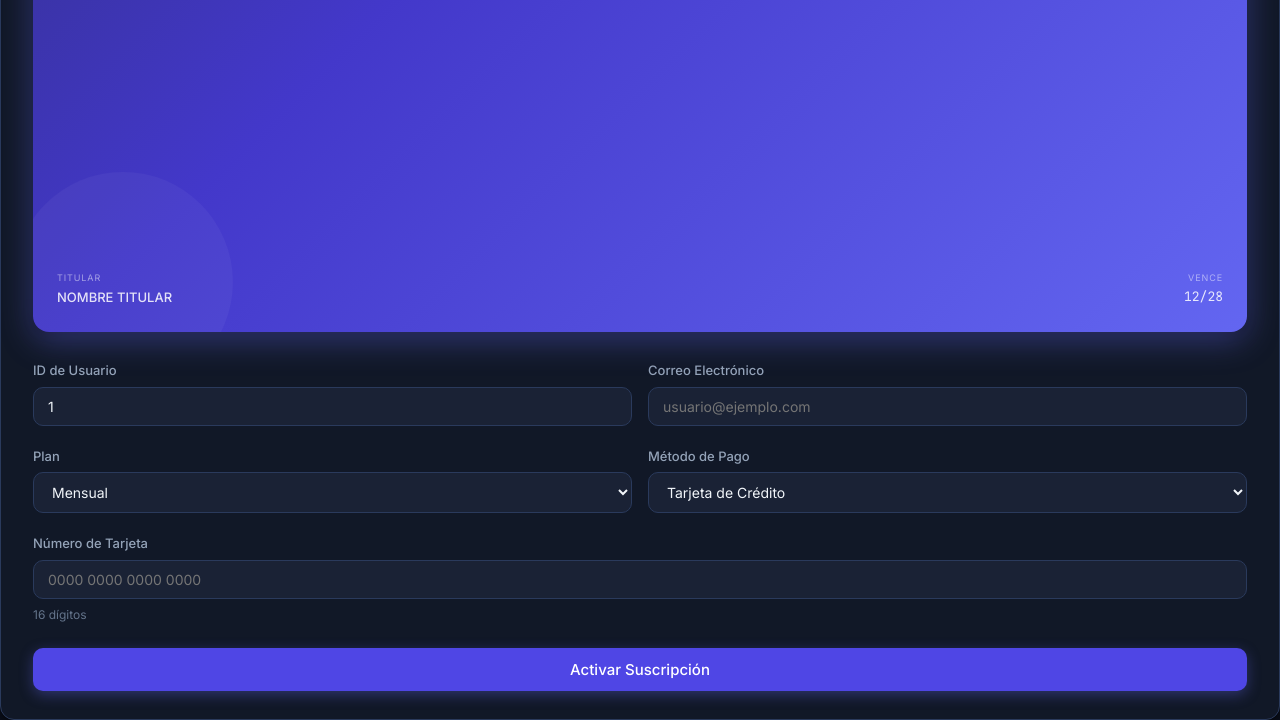
Test case: SubscriptionForm › shows validation error for empty email on blur
The image size is (1280, 720).
(page scrolled)
Click the field labelled "Correo Electrónico" at [948, 406], box [648, 387, 1247, 426]
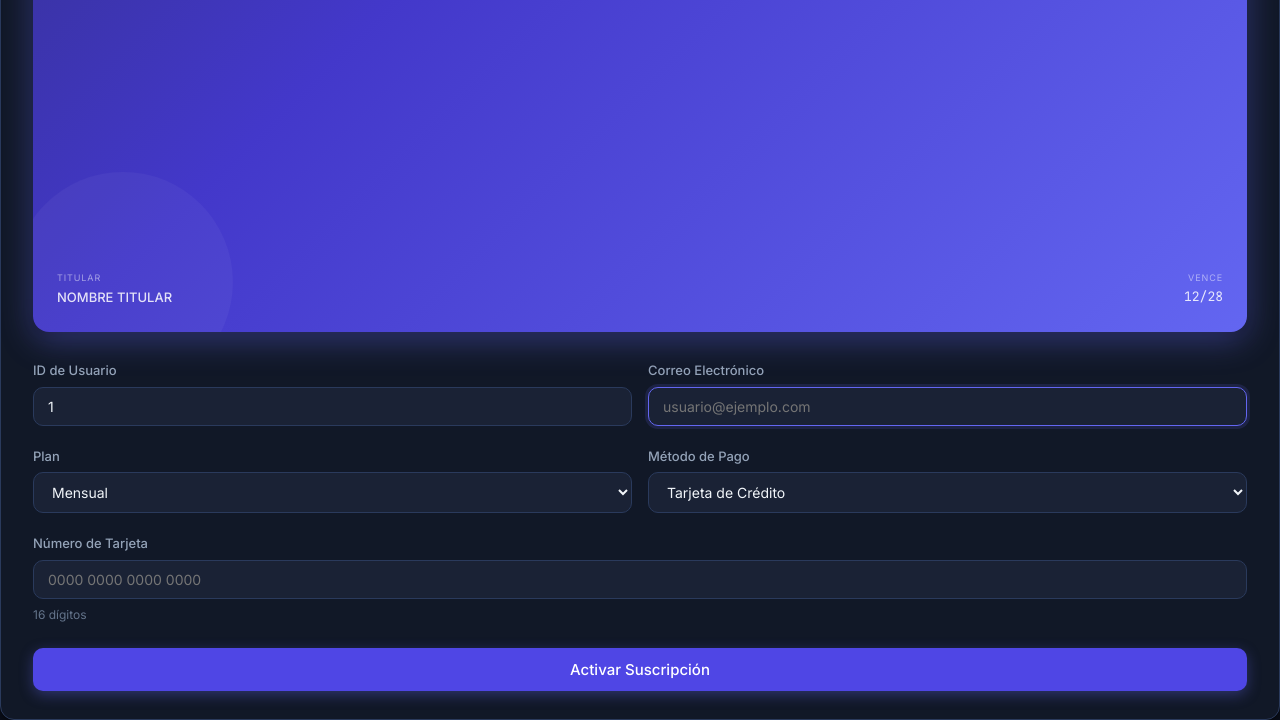
Press Tab
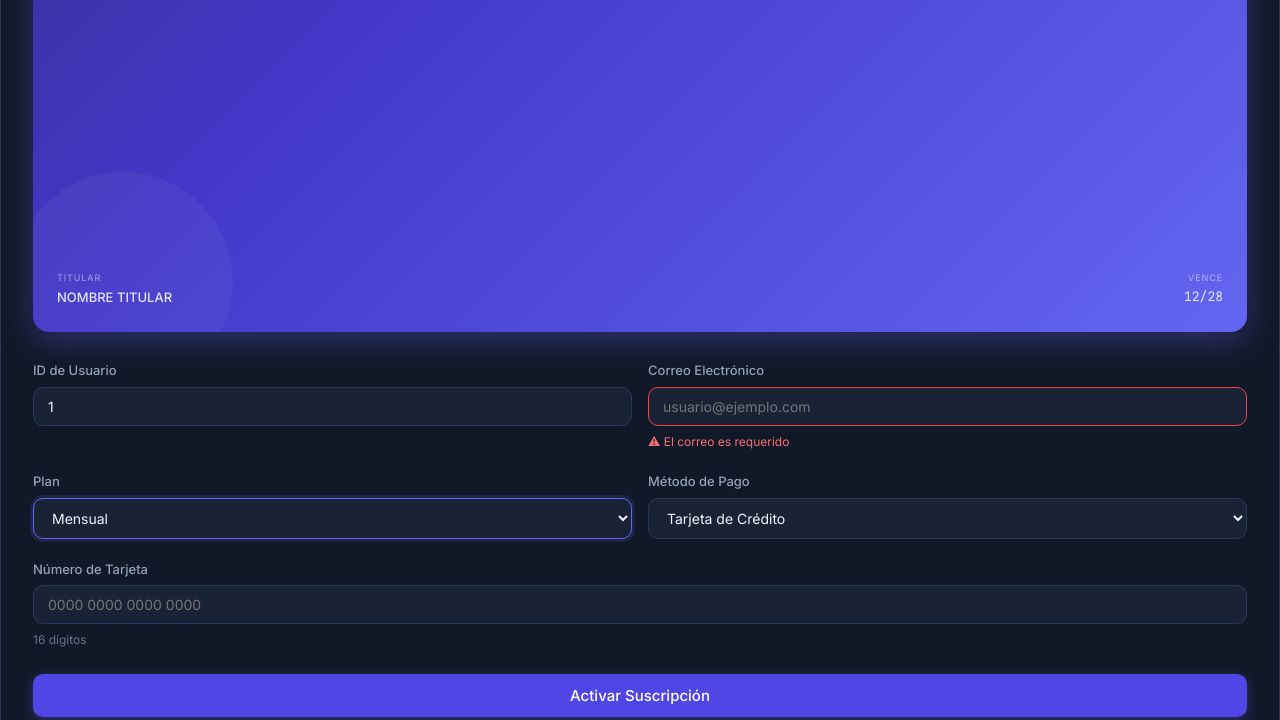
Expected: the message "⚠ El correo es requerido" is shown, [648, 434, 789, 449]
